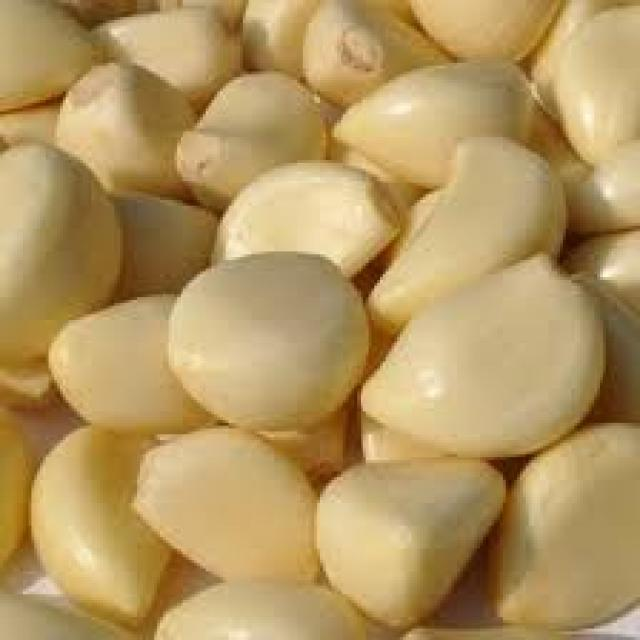Garlic bulb: (0, 3, 634, 623)
